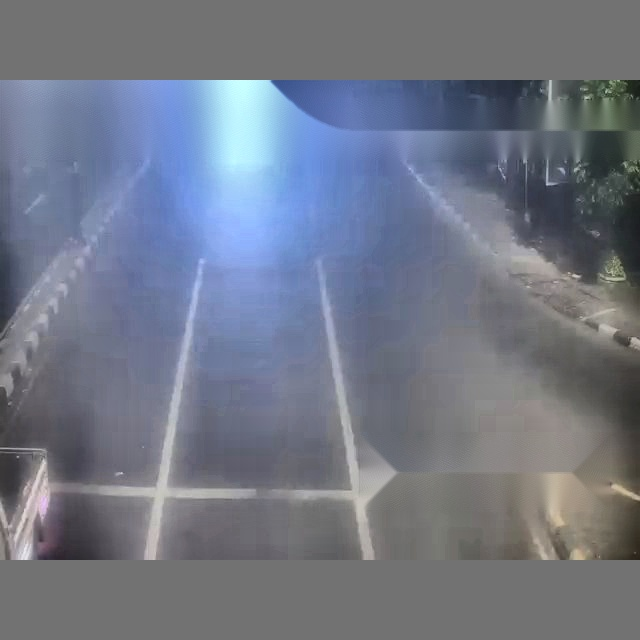Bis: (0, 85, 537, 564)
